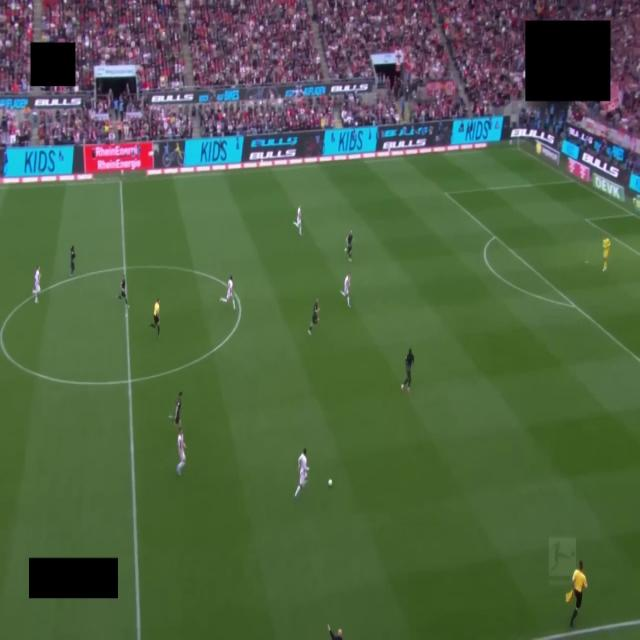ball: (328, 480, 332, 487)
player: (294, 448, 308, 499), (401, 349, 414, 392), (220, 276, 235, 310), (169, 392, 182, 428), (308, 299, 319, 335), (177, 427, 185, 475), (117, 276, 128, 307), (341, 272, 350, 307), (33, 265, 40, 303), (603, 236, 610, 271), (345, 231, 352, 261), (294, 207, 301, 235), (70, 246, 75, 276)
referee: (150, 299, 160, 336)
